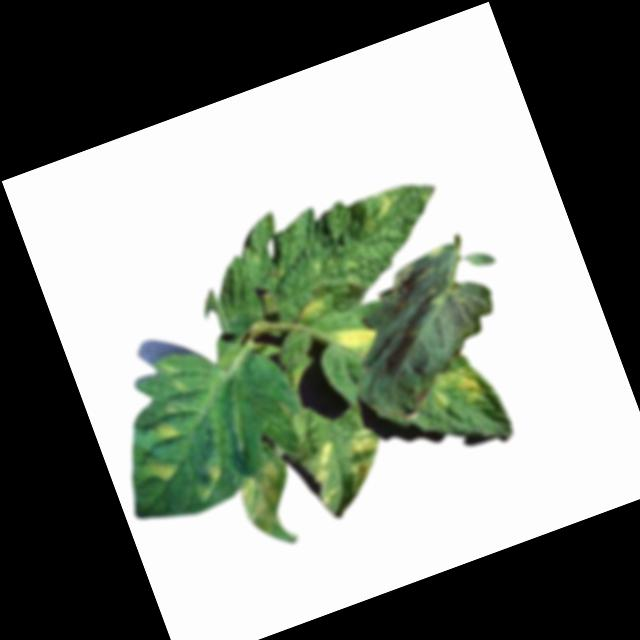Leaf_Mold: (230, 459, 306, 556), (373, 239, 471, 313), (424, 357, 496, 423), (301, 438, 354, 509), (333, 426, 390, 487), (351, 189, 399, 235), (187, 458, 233, 504), (331, 320, 380, 358), (141, 453, 177, 490), (293, 295, 332, 329), (153, 415, 181, 443)
